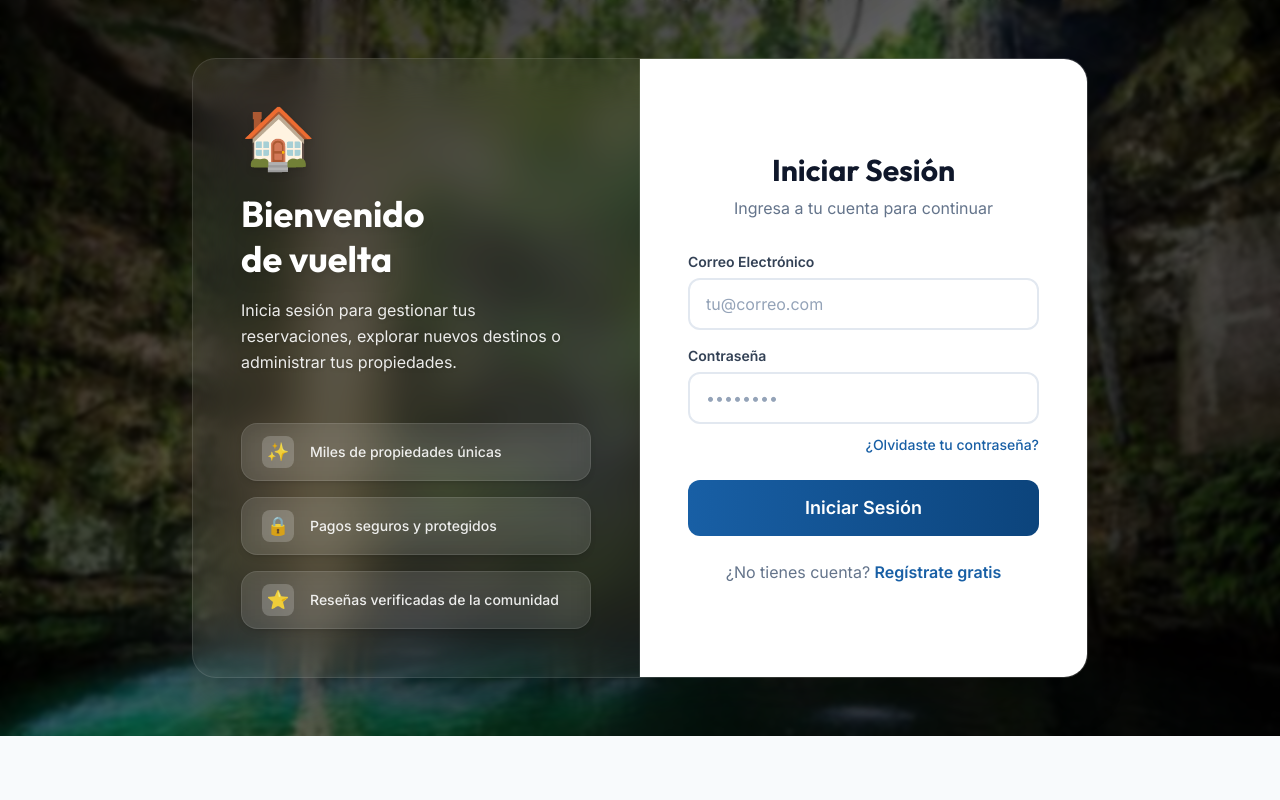
Test: Página de Login › valida formato de email
In the field labelled "Correo Electrónico": (864, 304) 688,278 -> 1039,330, type "invalido"
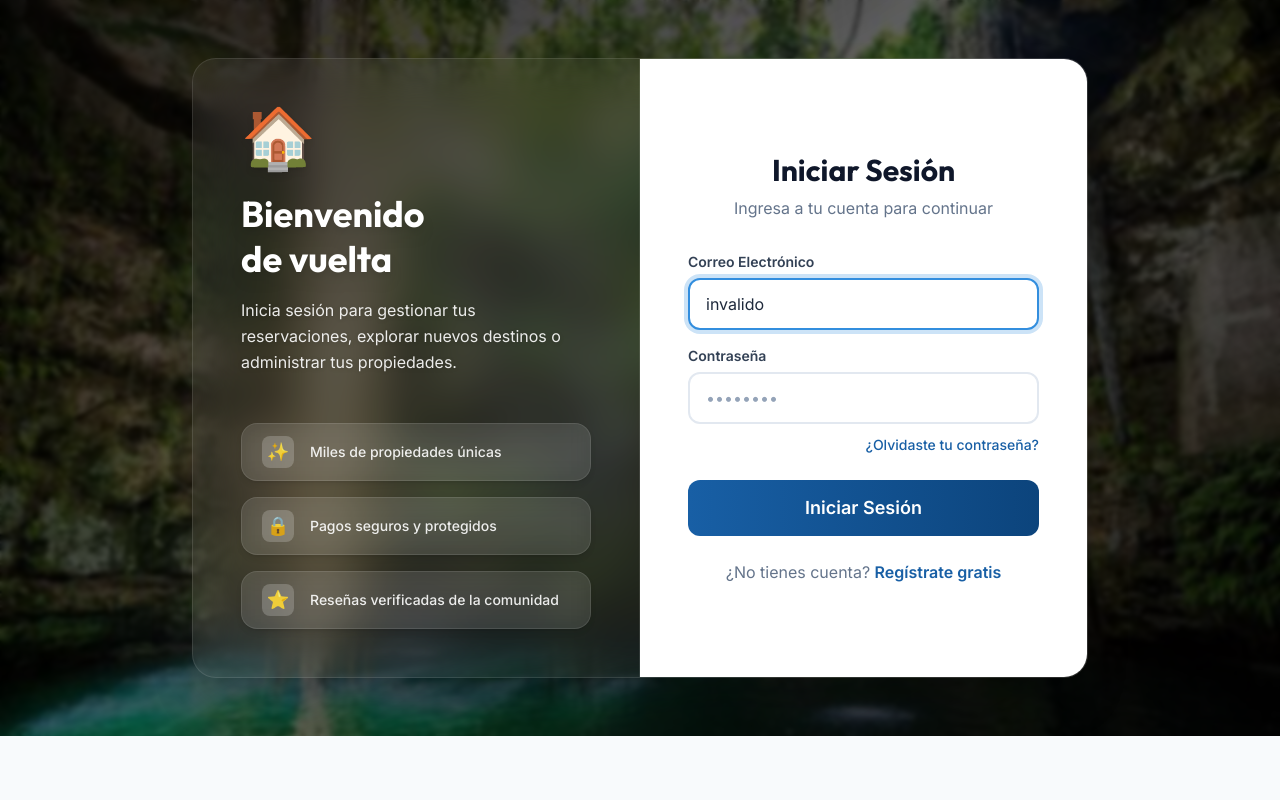
Click the button "Iniciar Sesión": (864, 508) 688,480 -> 1039,536
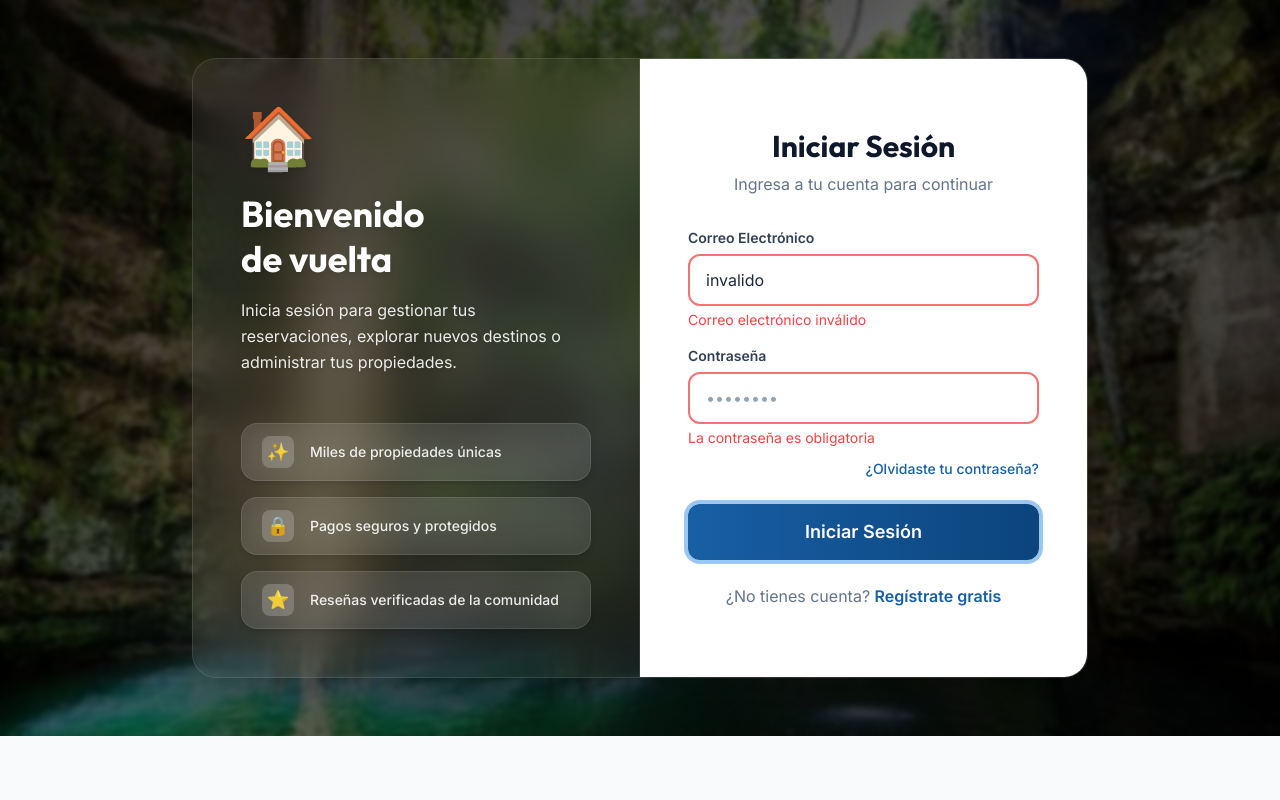
Result: the text "Correo electrónico inválido" is shown at 688,311 -> 866,328
